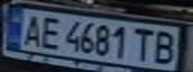1: (109, 24, 130, 60)
4: (60, 19, 84, 53)
6: (78, 20, 96, 55)
8: (93, 21, 112, 57)
A: (18, 11, 45, 47)
B: (151, 28, 178, 65)
E: (36, 15, 63, 49)
T: (130, 26, 157, 62)
